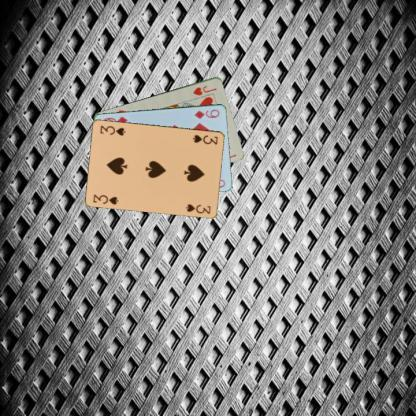3s: (190, 132, 219, 146), (90, 192, 119, 206)
9d: (192, 106, 221, 120)
Jh: (190, 82, 218, 96)
